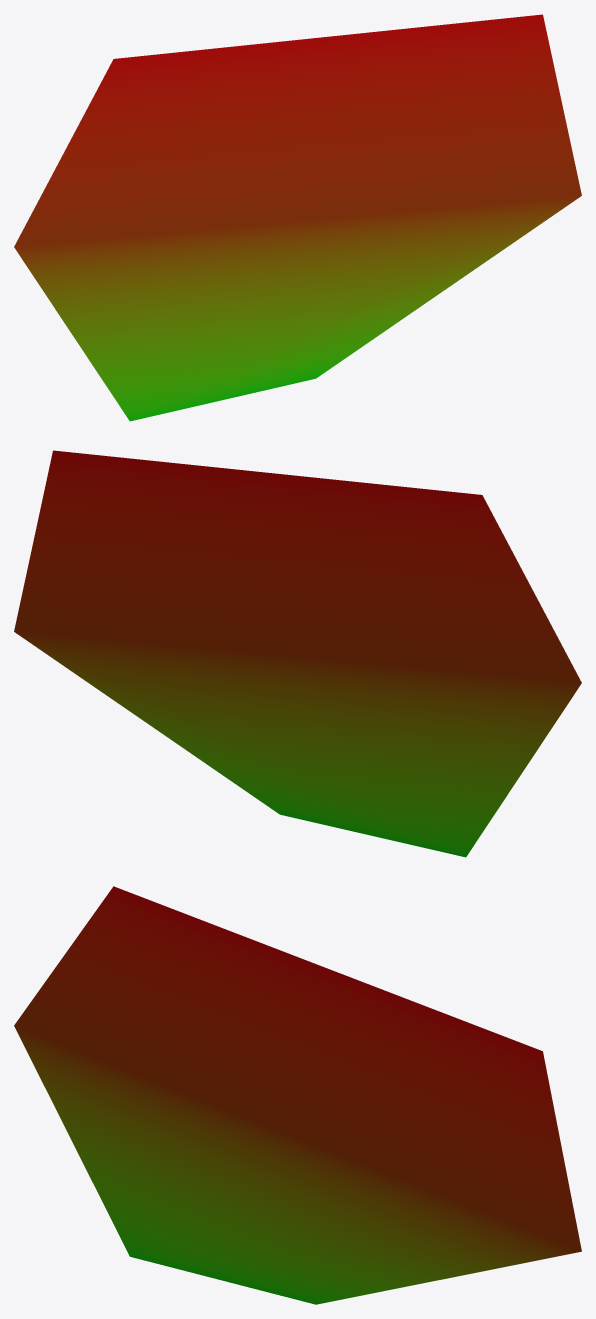
Rendered from Cotton Grass_LOD4_Var12_wlykecdia.fbx.
3 views of the same model, one above another, from view 1: azimuth 30°, elevation 25°; view 2: azimuth 150°, elevation 25°; view 3: azimuth 330°, elevation 25° (orthographic).
Parts seen in each view (by area): view 1: _iahw_Var12_LOD4; view 2: _iahw_Var12_LOD4; view 3: _iahw_Var12_LOD4.
Boxes of the visible parts, box(x1,y1,x2,y2) form: _iahw_Var12_LOD4: box(14, 14, 581, 421); _iahw_Var12_LOD4: box(14, 450, 581, 857); _iahw_Var12_LOD4: box(14, 886, 581, 1304).
Bounding box in the file's own units: 23.45 × 14.56 × 3.4e-06.
